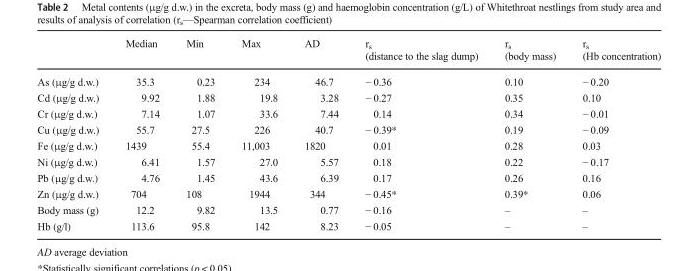table: (36, 36, 660, 232)
table column: (351, 36, 490, 232), (568, 36, 660, 232), (490, 36, 568, 232), (36, 36, 111, 232), (227, 36, 290, 232), (111, 36, 172, 232), (290, 36, 351, 232), (172, 36, 227, 232)
table column header: (36, 36, 660, 67)
table row: (36, 36, 660, 67), (36, 67, 660, 88), (36, 120, 660, 137), (36, 152, 660, 169), (36, 184, 660, 201), (36, 88, 660, 104), (36, 104, 660, 120), (36, 201, 660, 217), (36, 137, 660, 152), (36, 169, 660, 184), (36, 217, 660, 232)
